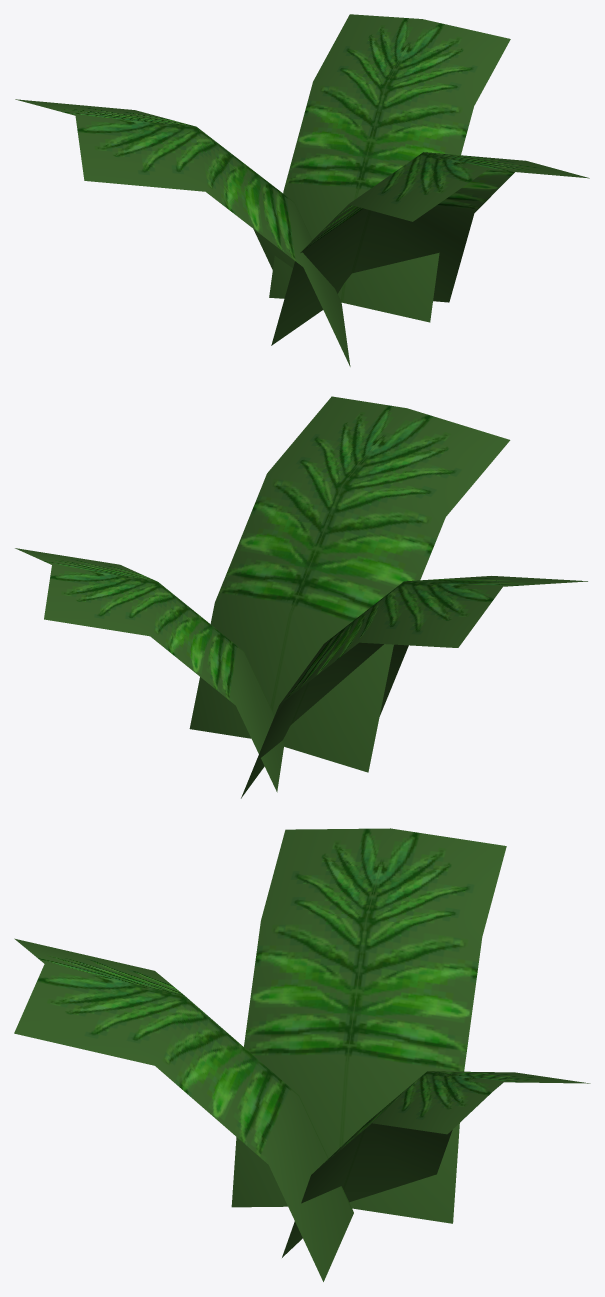
File: INST_EKH_FERNB_PLANT.fbx
The picture shows the model from 3 angles, top to bottom: view 1: azimuth 30°, elevation 25°; view 2: azimuth 150°, elevation 25°; view 3: azimuth 270°, elevation 25°; orthographic projection. The views are drawn at different scales.
Parts seen in each view (by area): view 1: INST_EKH_FERNB_PLANT; view 2: INST_EKH_FERNB_PLANT; view 3: INST_EKH_FERNB_PLANT.
Boxes of the visible parts, x1,y1,x2,y2 form: INST_EKH_FERNB_PLANT: (15,14,589,366); INST_EKH_FERNB_PLANT: (15,396,587,798); INST_EKH_FERNB_PLANT: (14,828,590,1281).
Size of the model in its own units: 6458 by 3057 by 5898.
Materials: 1 (1 with a texture image).
